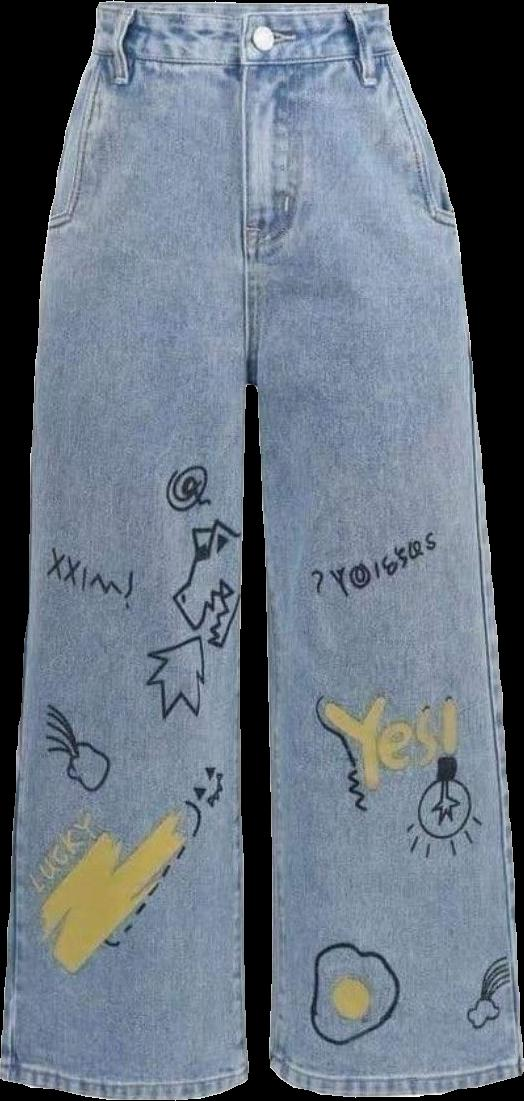Hemline: (261, 1054, 523, 1100), (0, 1067, 254, 1100)
Pantleg: (240, 0, 523, 1095), (0, 2, 263, 1098)
Waistline: (90, 46, 398, 75), (92, 0, 387, 19)
